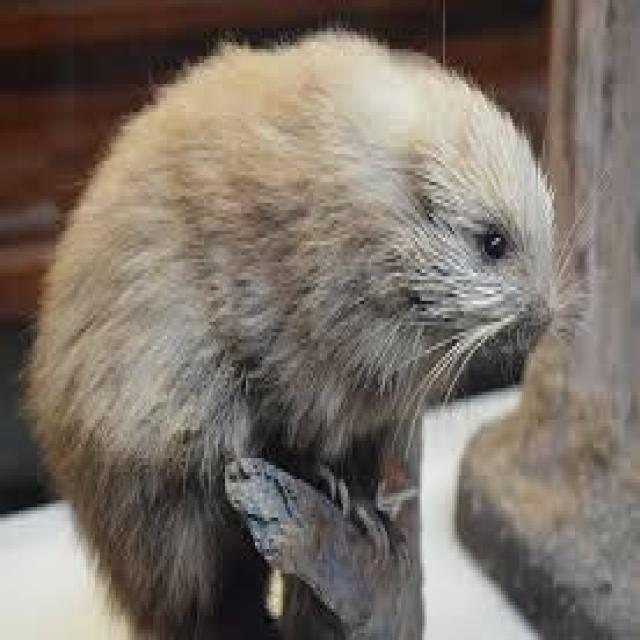Rat: (34, 21, 562, 595)
